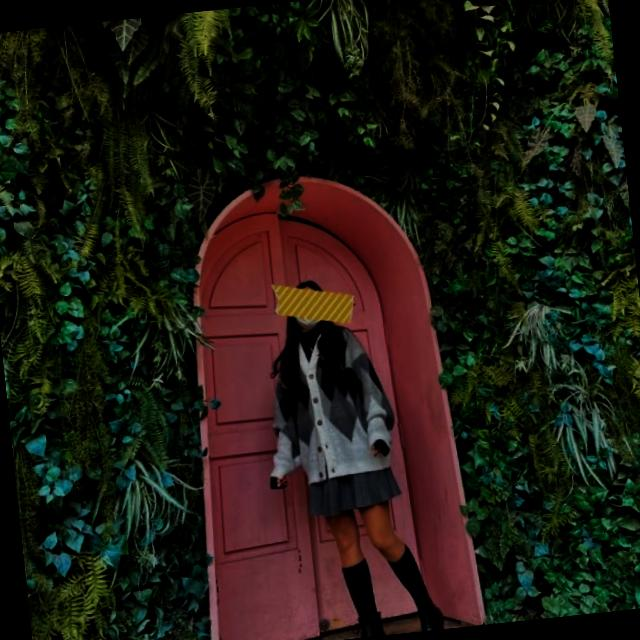cardigan: (256, 316, 402, 486)
skirt: (306, 465, 402, 522)
